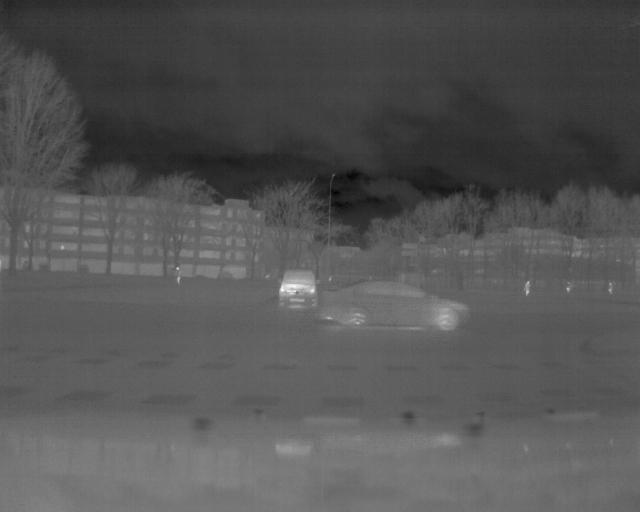car: (319, 278, 477, 332), (279, 269, 321, 311)
